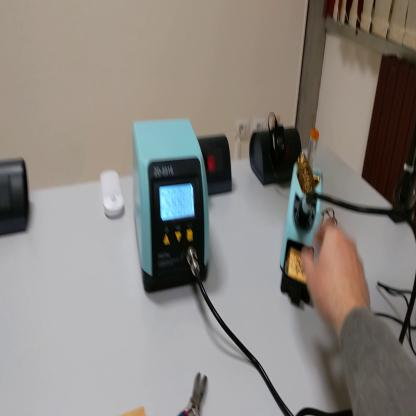hand: (303, 220, 371, 328)
pliers: (171, 375, 217, 416)
socket: (249, 128, 305, 190), (198, 136, 234, 199)
welder base: (281, 130, 325, 308)
welder probe tip: (295, 177, 319, 220)
welder station: (131, 122, 212, 295)
working area: (119, 405, 149, 416)
